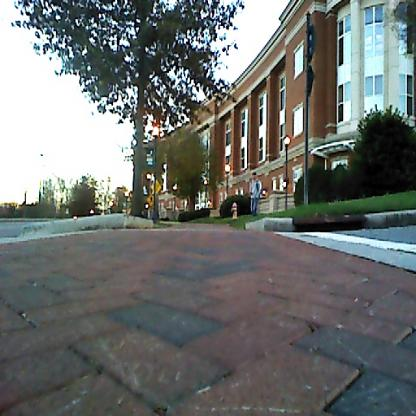Edge: (201, 218, 413, 274), (0, 208, 150, 249)
Sidewalk: (0, 223, 416, 416)
